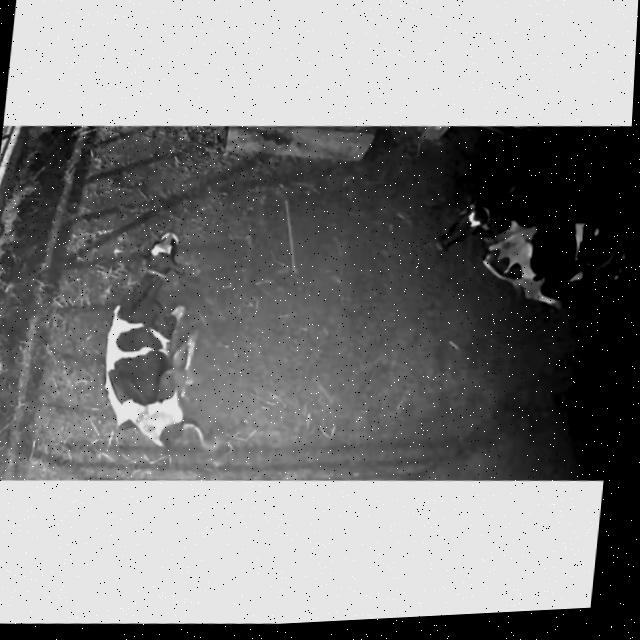lay: (73, 205, 244, 468), (477, 204, 628, 304)
